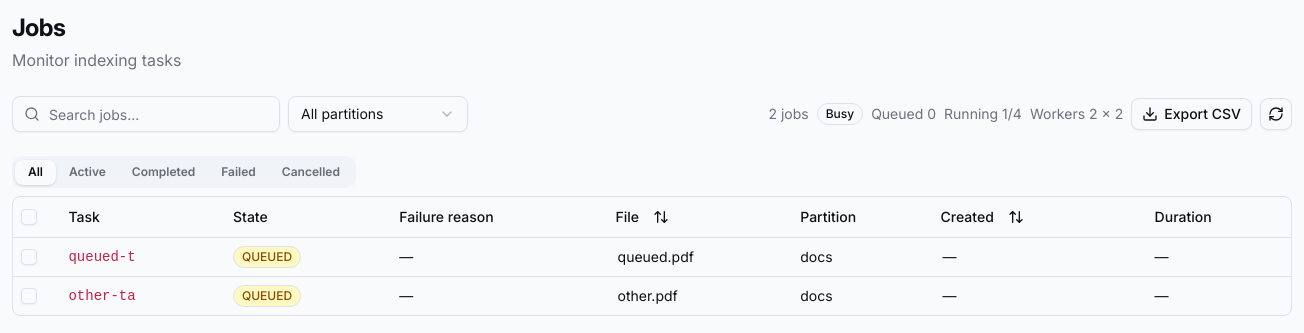
JobListPage filters › clears selected jobs when the search changes
Expected: the text "queued.pdf" is shown, [618,248,694,264]
Click the checkbox named "select row" next to "queued-t" at (29, 256), box [21,248,37,264]
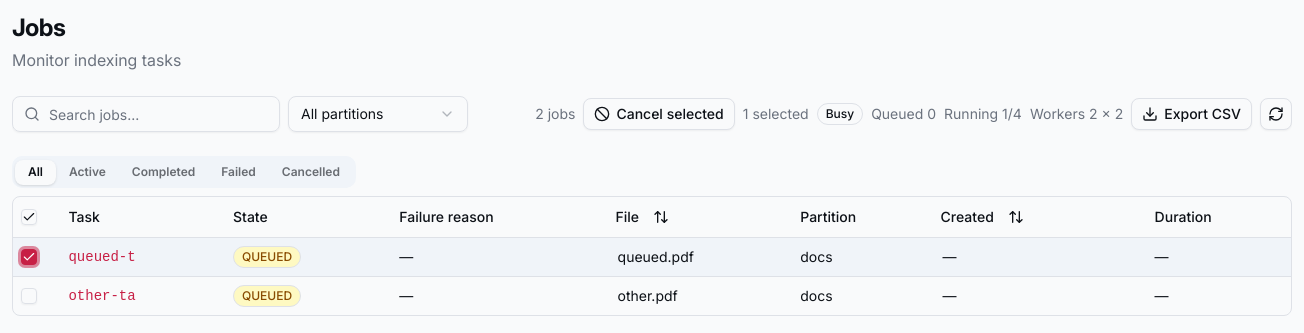
Expected: the text "1 selected" is shown, [743,104,809,124]
Type "other" into the field with placeholder "Search jobs..." at (146, 114), box [12,96,280,132]
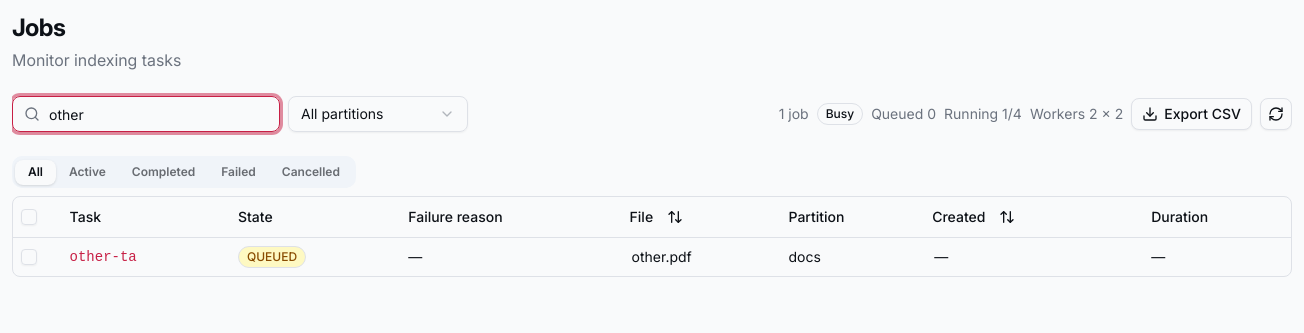
Expected: the text "1 selected" is gone
